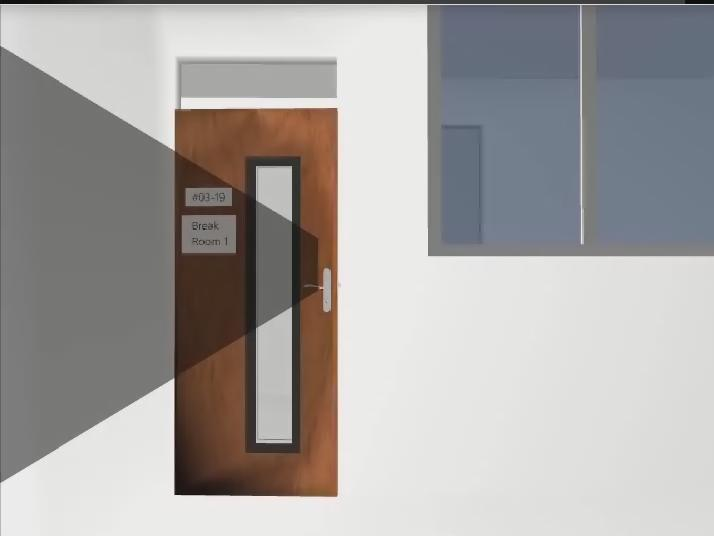door: (176, 110, 338, 496)
